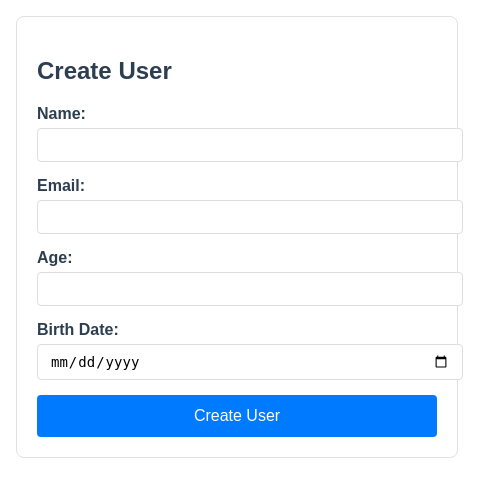
Scenario: UserForm - External Dependencies and Modules › Form Validation with Mocked Dependencies › validates individual fields on input
The image size is (480, 494).
Type "J" into the field with id "name". click: (250, 145)
box: [37, 128, 463, 162]
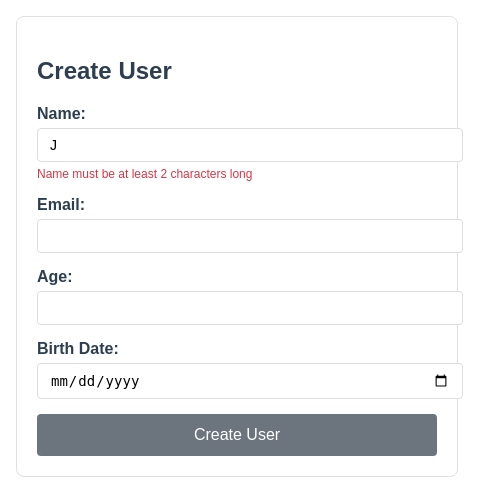
Check: the text "Name must be at least 2 characters long" is shown, box [37, 167, 252, 181]
